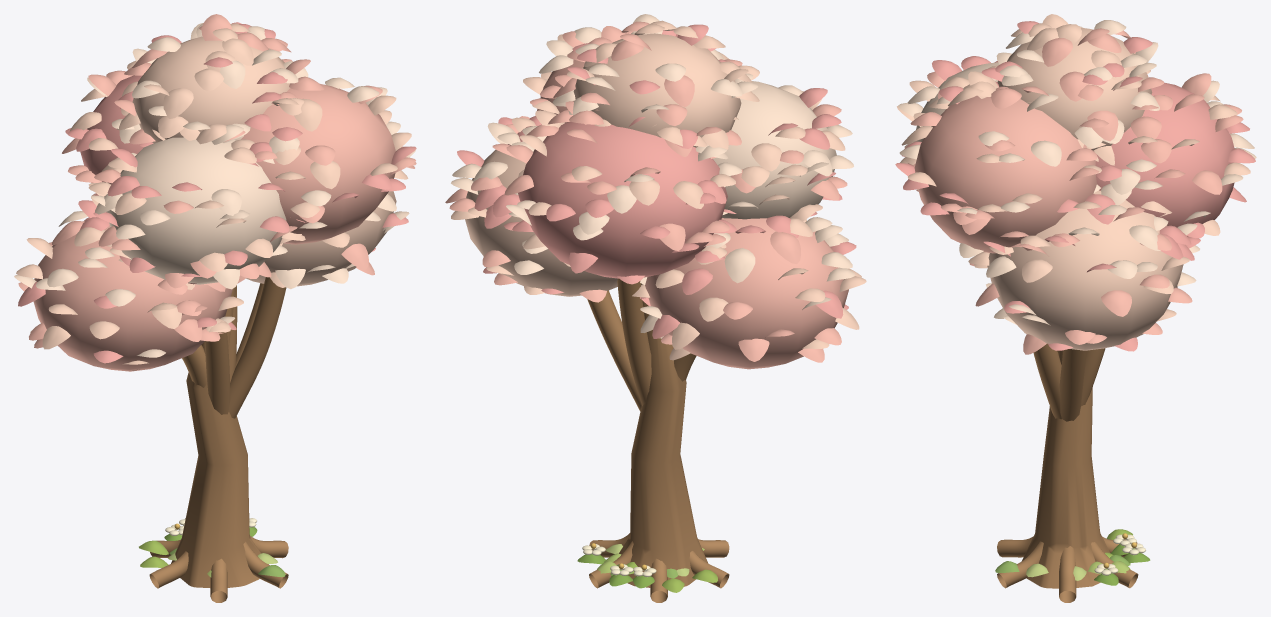
Rendered from blossom-tree.glb.
3 renders of one model, left to right at view 1: azimuth 30°, elevation 25°; view 2: azimuth 150°, elevation 25°; view 3: azimuth 270°, elevation 25°, orthographic.
Visible parts, largest first — view 1: Soft crown core.003, Soft crown core, Soft crown core.004, Sculpted orchard trunk, Soft crown core.005, Soft crown core.001, Branch 4, Soft crown core.002, Branch 3, Grounded root.003, Grounded root.004, Petal spray.375 (+6 smaller); view 2: Soft crown core.002, Soft crown core, Sculpted orchard trunk, Soft crown core.005, Soft crown core.003, Soft crown core.001, Branch 2, Branch 1, Petal spray.019, Petal spray, Petal spray.441, Petal spray.260 (+5 smaller); view 3: Soft crown core.004, Soft crown core.001, Soft crown core.002, Sculpted orchard trunk, Soft crown core.005, Branch 1, Branch 4, Grounded root, Grounded root.005, Branch 2, Petal spray.381, Petal spray.121 (+13 smaller).
Part boxes in pixels (x1,y1,x2,y2): Soft crown core.003: (106,137,286,284); Soft crown core: (33,220,232,371); Soft crown core.004: (241,84,395,244); Sculpted orchard trunk: (171,286,268,587); Soft crown core.005: (132,36,289,143); Soft crown core.001: (246,191,396,286); Branch 4: (228,277,286,418); Soft crown core.002: (80,75,143,184); Branch 3: (204,316,230,414); Grounded root.003: (149,551,188,588); Grounded root.004: (210,558,227,602); Petal spray.375: (163,88,193,118); Soft crown core.002: (518,121,727,278); Soft crown core: (645,218,848,369); Sculpted orchard trunk: (619,304,708,587); Soft crown core.005: (573,33,741,147); Soft crown core.003: (713,81,836,219); Soft crown core.001: (465,145,617,296); Branch 2: (617,278,651,405); Branch 1: (587,290,641,411); Petal spray.019: (724,248,755,283); Petal spray: (770,231,800,263); Petal spray.441: (664,75,694,107); Petal spray.260: (751,143,781,171); Soft crown core.004: (914,95,1096,253); Soft crown core.001: (987,190,1183,350); Soft crown core.002: (1095,82,1234,236); Sculpted orchard trunk: (1022,351,1109,588); Soft crown core.005: (997,27,1152,150); Branch 1: (1059,349,1086,421); Branch 4: (1033,343,1061,419); Grounded root: (1059,546,1076,602); Grounded root.005: (997,541,1043,588); Branch 2: (1081,348,1105,406); Petal spray.381: (1042,38,1072,66); Petal spray.121: (1101,290,1131,316).
Bounding box in the file's own units: 1.51 × 2.07 × 1.24.
